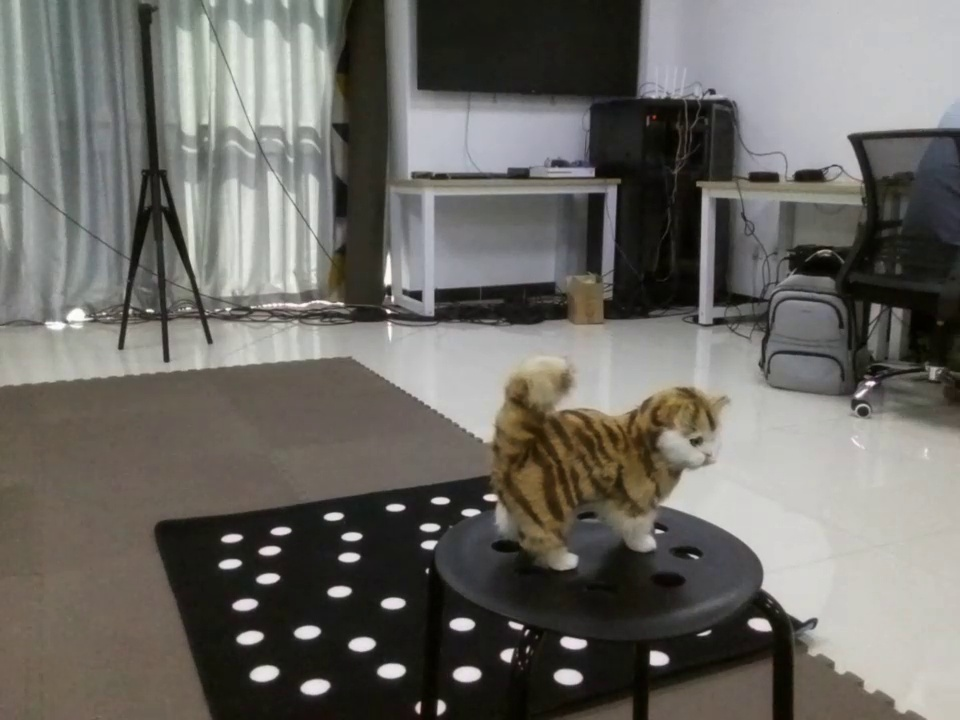cat: (451, 356, 750, 574)
